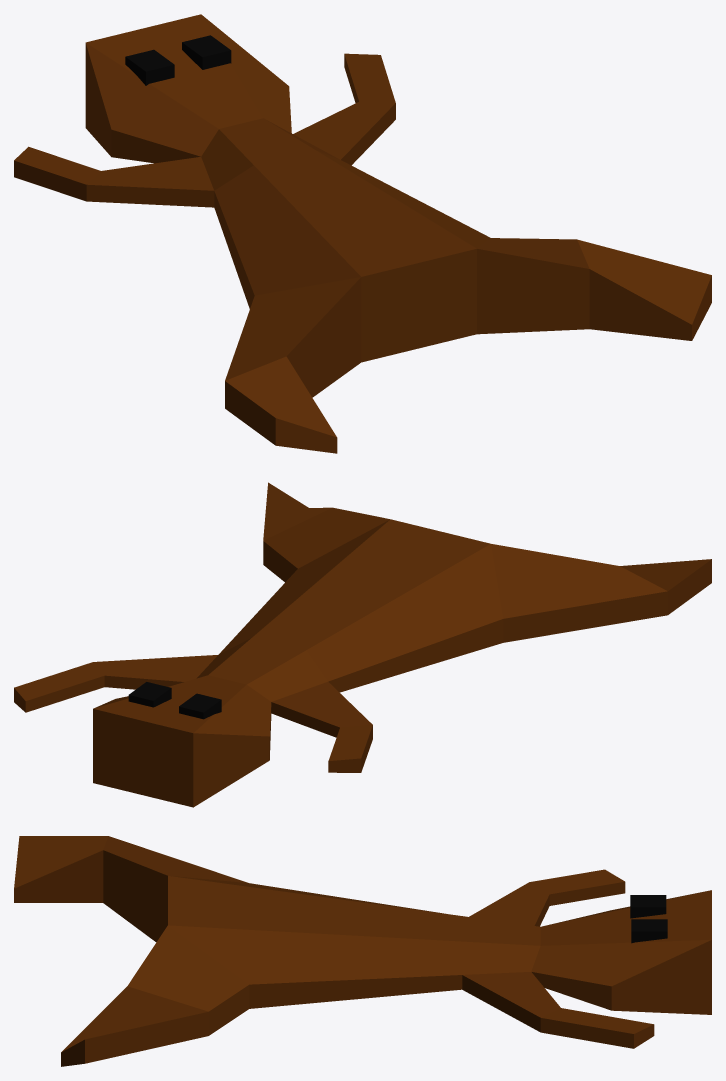
File: nalle.FBX
3 views of the same model, one above another, from view 1: azimuth 30°, elevation 25°; view 2: azimuth 150°, elevation 25°; view 3: azimuth 270°, elevation 25° (orthographic). The views are drawn at different scales.
Visible parts, largest first — view 1: nalle; view 2: nalle; view 3: nalle.
Part boxes in pixels (left/top/right/bottom): nalle: left=14, top=14, right=711, bottom=453; nalle: left=14, top=482, right=711, bottom=807; nalle: left=14, top=836, right=711, bottom=1066.
Size of the model in its own units: 22.63 by 3.97 by 32.82.
